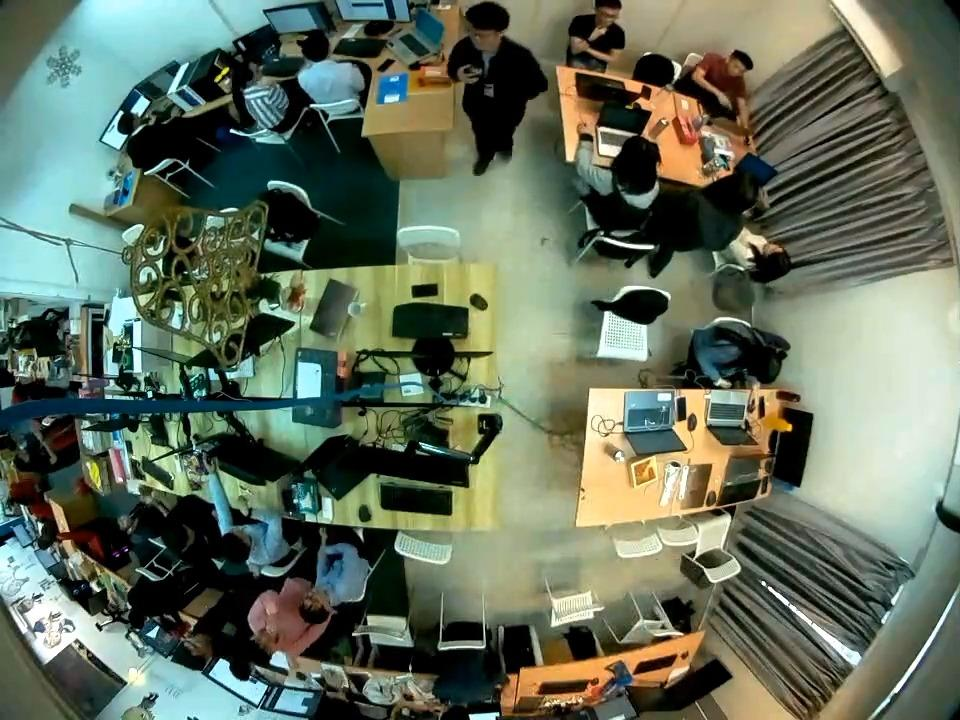name-tag: (470, 66, 484, 74)
